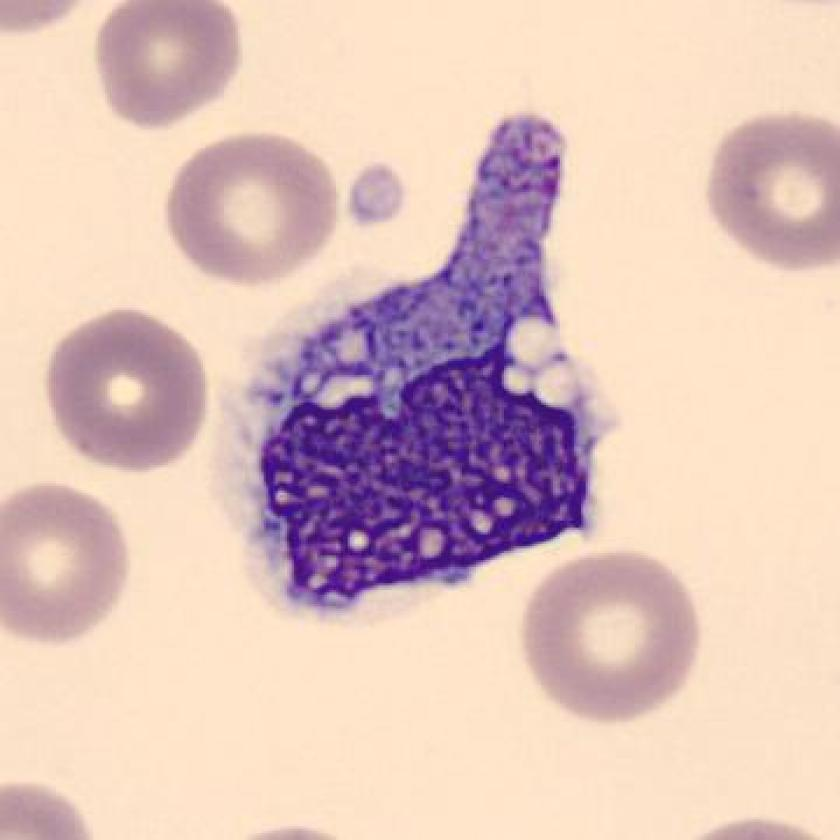monocyte: (202, 96, 624, 646)
